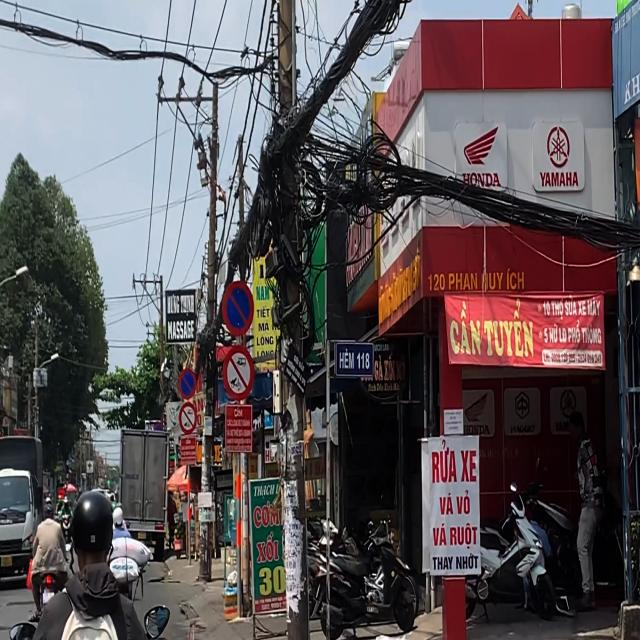Cam con lai: (221, 342, 254, 403), (178, 399, 199, 435)
Cam do: (222, 280, 254, 336), (178, 368, 197, 400)
